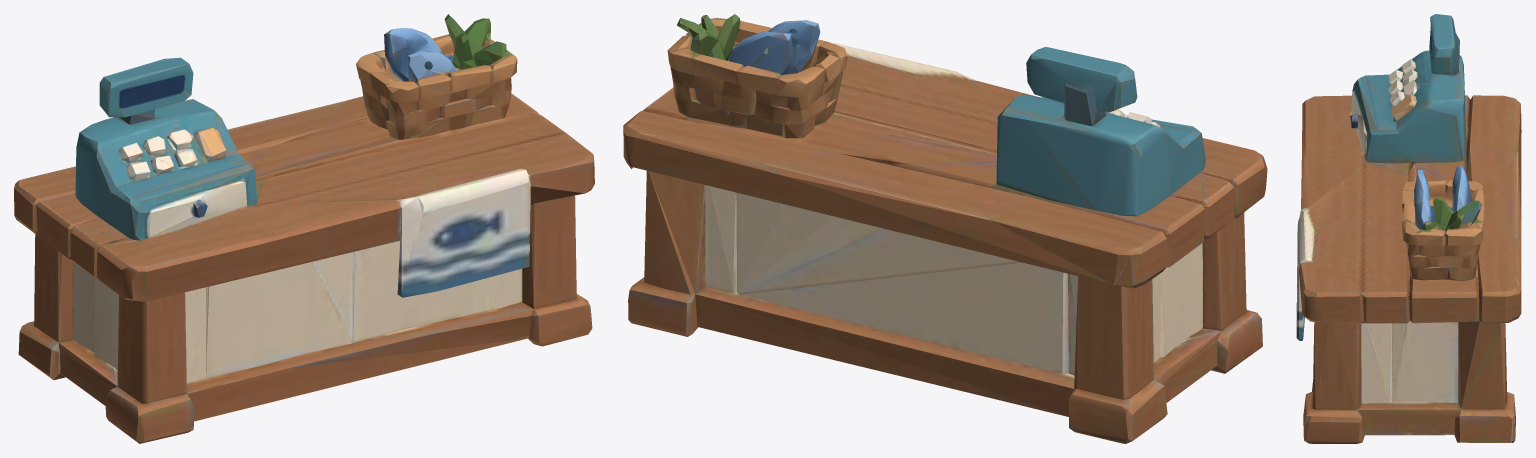
The model's file is shop-checkout.glb.
3 views of the same model, side by side, from view 1: azimuth 30°, elevation 25°; view 2: azimuth 150°, elevation 25°; view 3: azimuth 270°, elevation 25° (orthographic). The views are drawn at different scales.
Parts seen in each view (by area): view 1: shop-checkout-fit; view 2: shop-checkout-fit; view 3: shop-checkout-fit.
Part boxes in pixels (x1,y1,x2,y2): shop-checkout-fit: (14, 14, 594, 443); shop-checkout-fit: (623, 14, 1267, 443); shop-checkout-fit: (1296, 14, 1521, 443).
Bounding box in the file's own units: 1.8 × 1.09 × 0.8533.
1 material, 1 textured.
